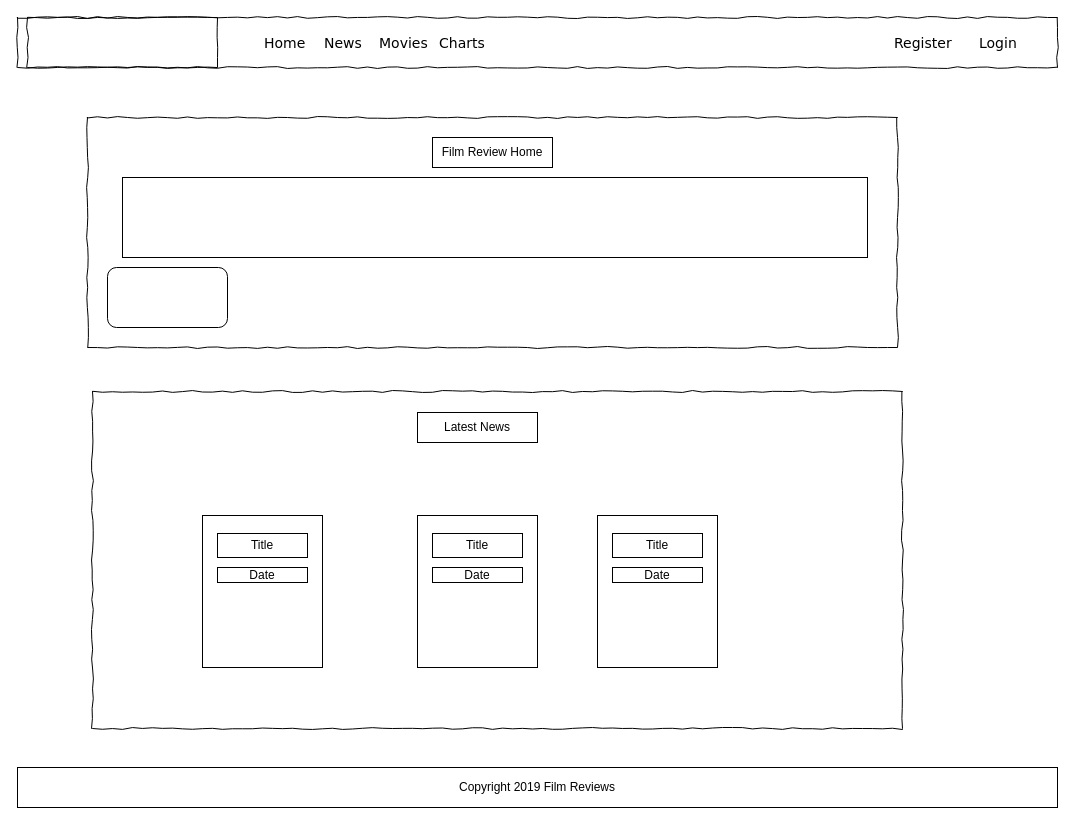
The diagram is 1075 pixels wide and 825 high, and some of its shapes have lost their labels. The shapes that lost their labels are listed below. From the top down, each one's centre as x and y in pixels, then its label:
At (122,42): "Film Review".
At (495,217): "TEXT".
At (167,297): "Learn More".
